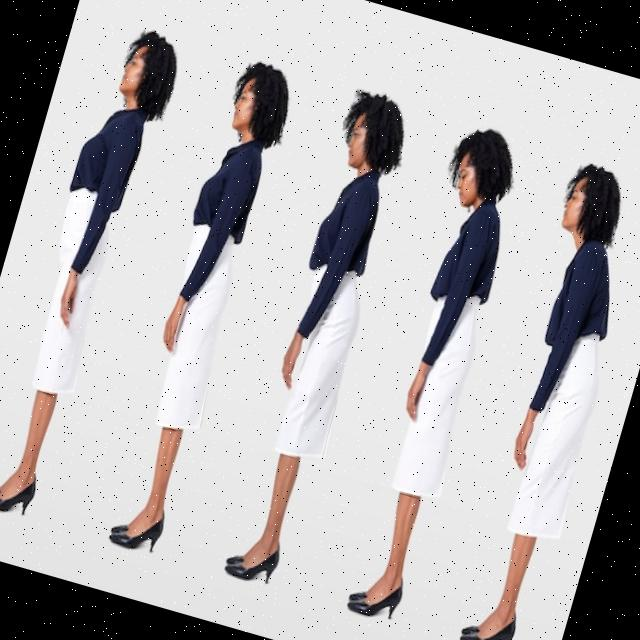Person: (322, 121, 532, 624), (214, 85, 421, 590), (99, 54, 302, 558), (437, 158, 640, 640), (0, 21, 186, 526)
